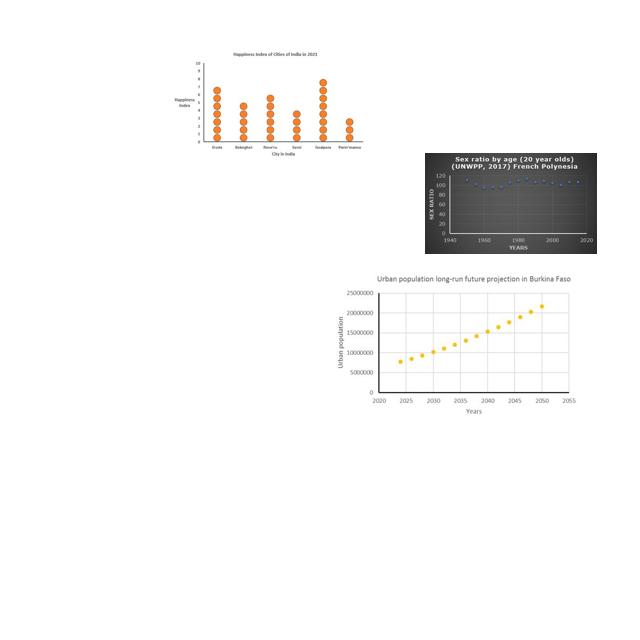Graph: (327, 273, 580, 419), (169, 49, 365, 162), (425, 153, 597, 254)
